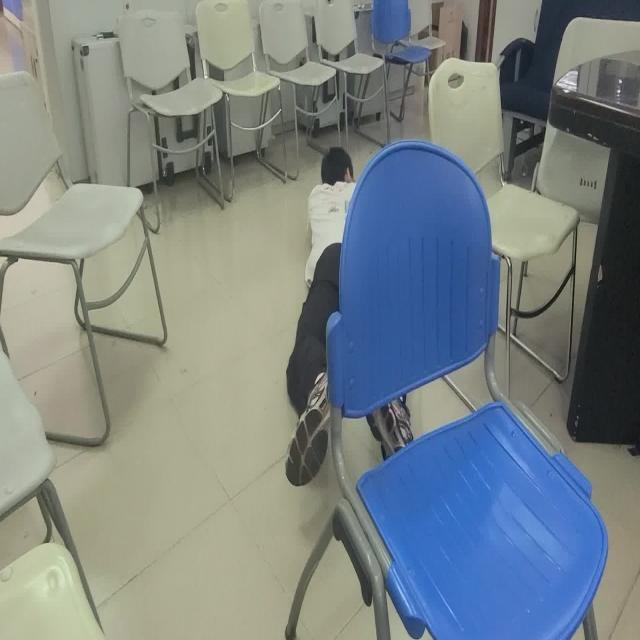fall: (285, 142, 415, 509)
